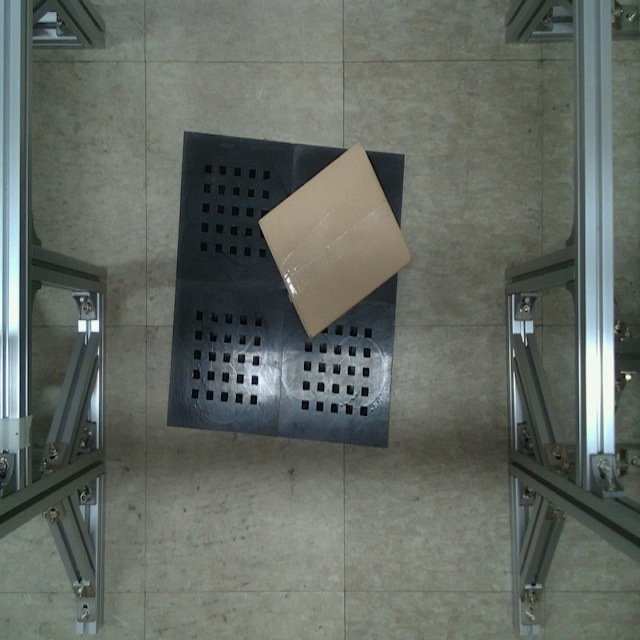box: (256, 138, 413, 340)
pallet: (159, 123, 408, 460)
